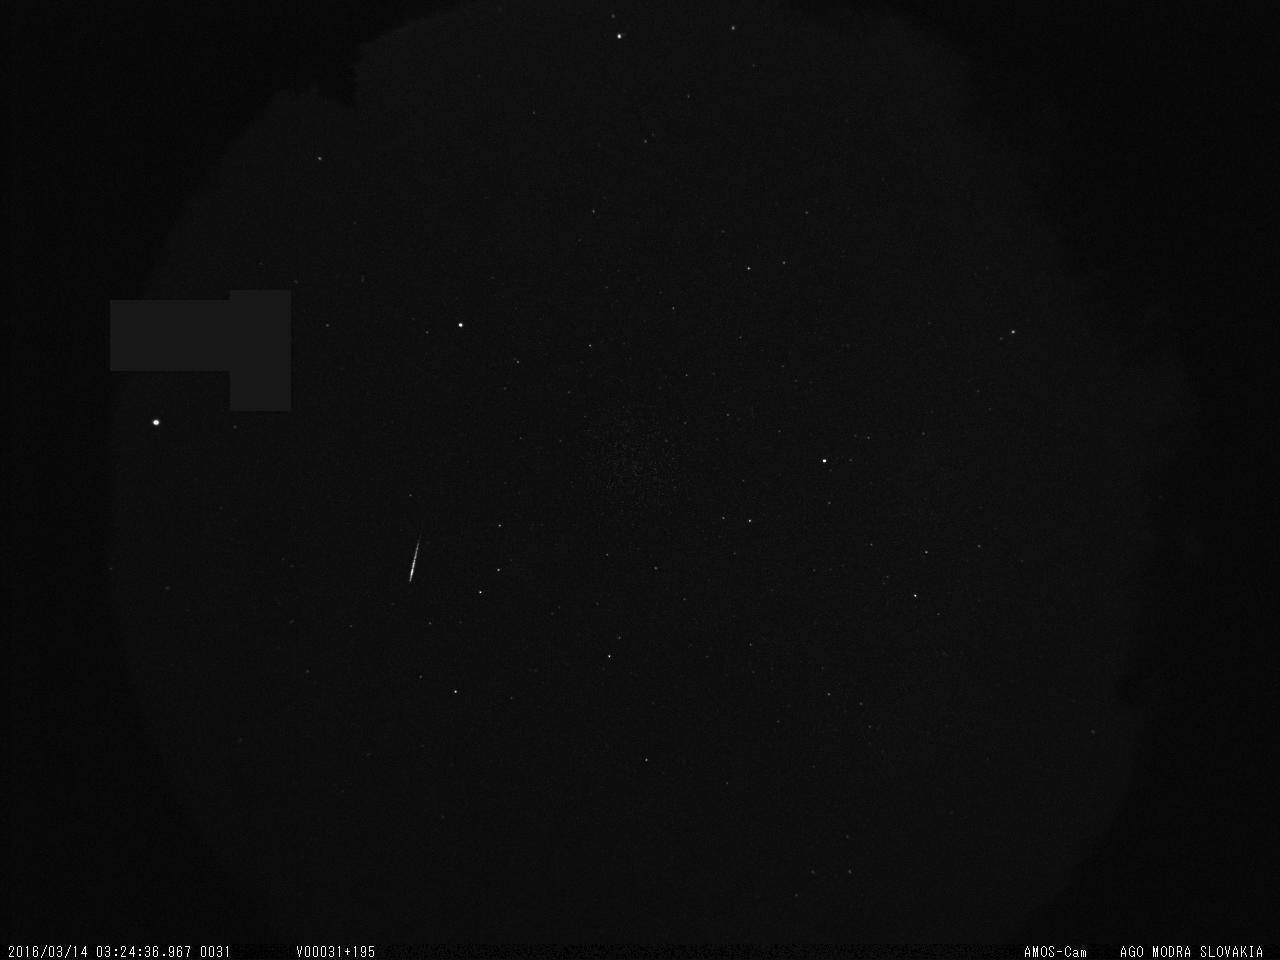meteor: (400, 535, 435, 591)
